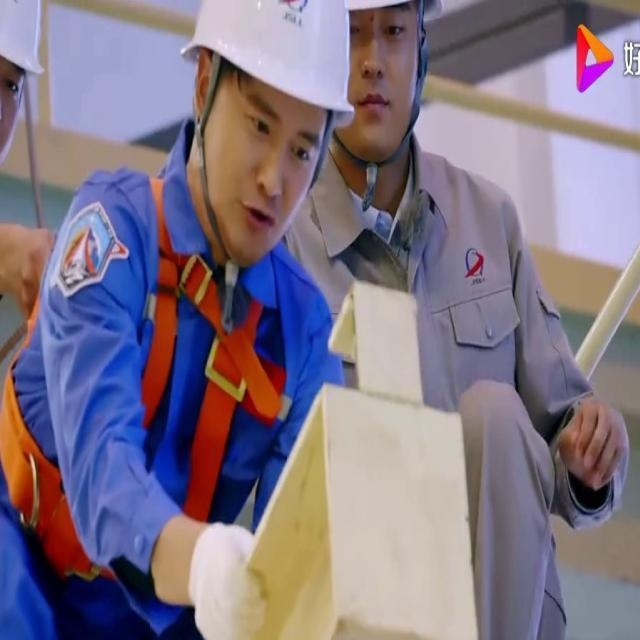Arnes_seguridad: (0, 163, 270, 595)
